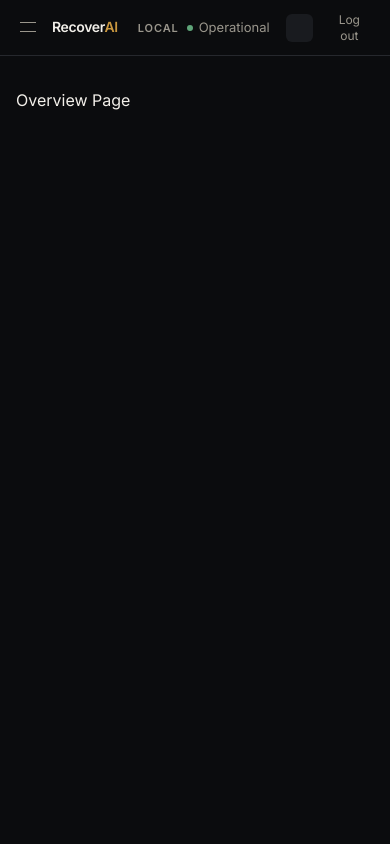
Test: AppShell mobile navigation › closes the drawer automatically once a nav link changes the route
What coordinates should you click on to do the following:
click the button named "Open navigation"
I would click on:
 (28, 28)
Its box is [16,18,40,36].
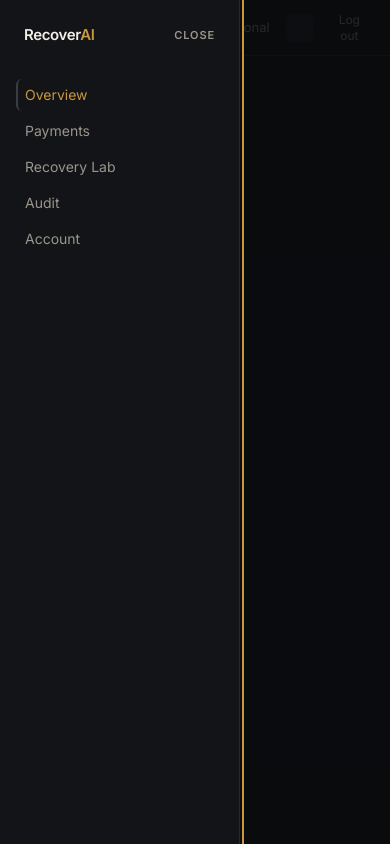
Expected: the dialog is shown
# The drawer's own link list, not the desktop sidebar's
What coordinates should you click on to do the following:
click the link "Payments"
I would click on:
 (58, 130)
Its box is [25,122,90,138].
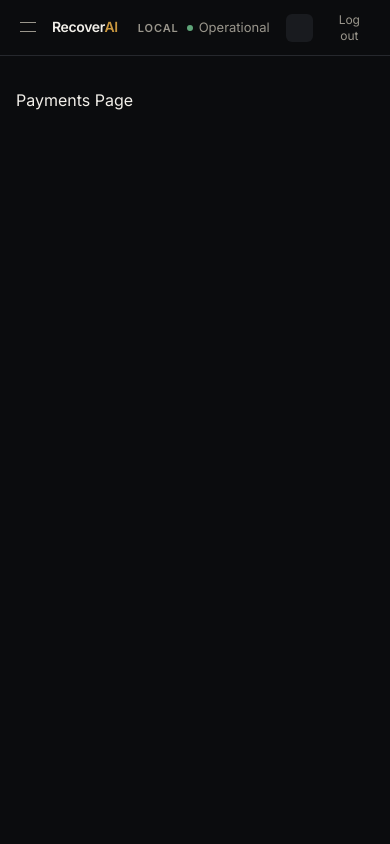
Expected: the text "Payments Page" is shown, [16,90,133,110]
Expected: the dialog is gone
